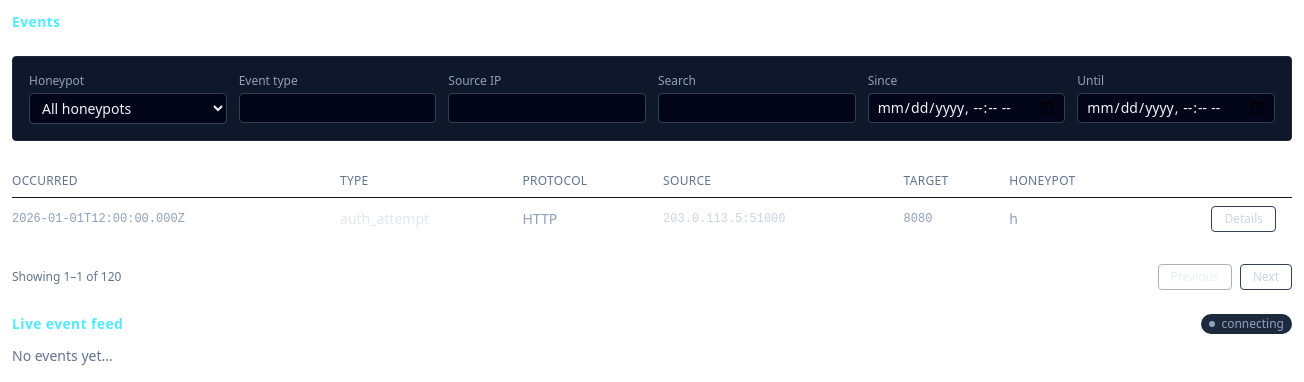
it: does not print an impossible range when the page is empty
The width and height of the screenshot is (1304, 382).
Expected: the text "Showing 1–1 of 120" is shown, [12, 269, 121, 285]
Click the button "Next".
click(1266, 277)  # box [1240, 264, 1292, 290]
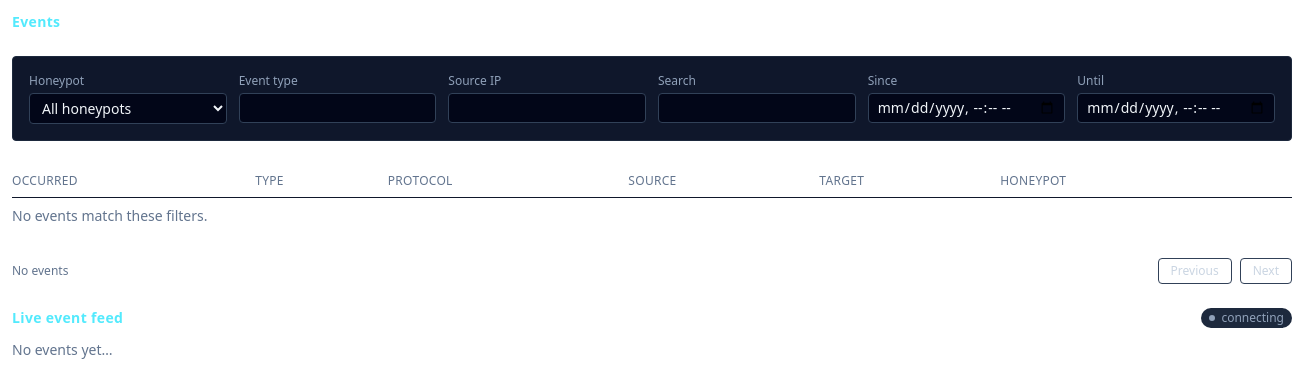
Expected: the text "No events" is shown, [12, 263, 68, 279]
